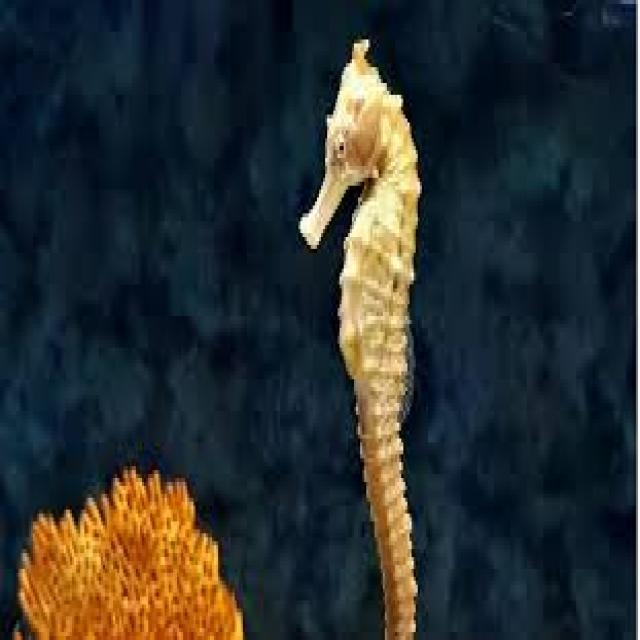SeaHorse: (296, 40, 419, 640)
